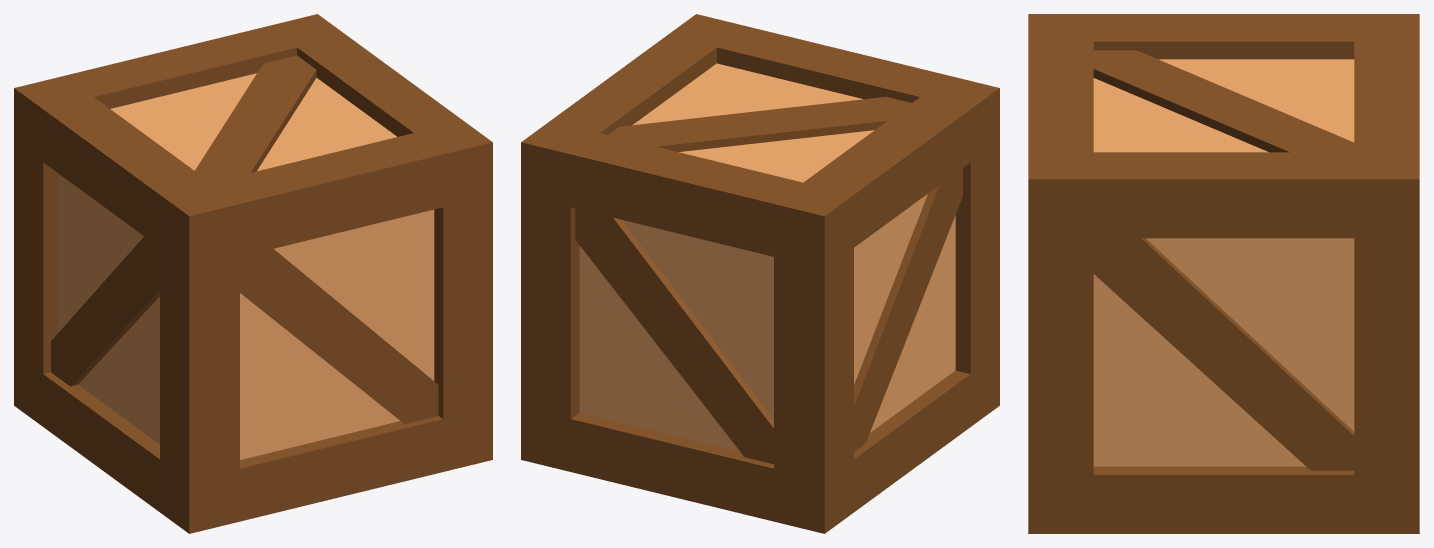
The model's file is woodBox.fbx.
The picture shows the model from 3 angles, left to right: view 1: azimuth 30°, elevation 25°; view 2: azimuth 150°, elevation 25°; view 3: azimuth 270°, elevation 25°; orthographic projection. The views are drawn at different scales.
Parts seen in each view (by area): view 1: Cube; view 2: Cube; view 3: Cube.
Part boxes in pixels (<box>): Cube: <box>14,14,492,533</box>; Cube: <box>521,14,999,533</box>; Cube: <box>1028,14,1419,533</box>.
Bounding box in the file's own units: 200 × 200 × 200.
